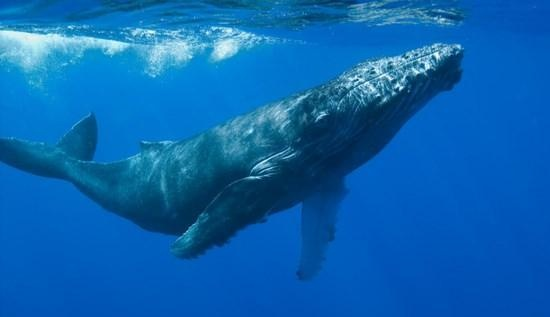fish: (3, 43, 474, 279)
